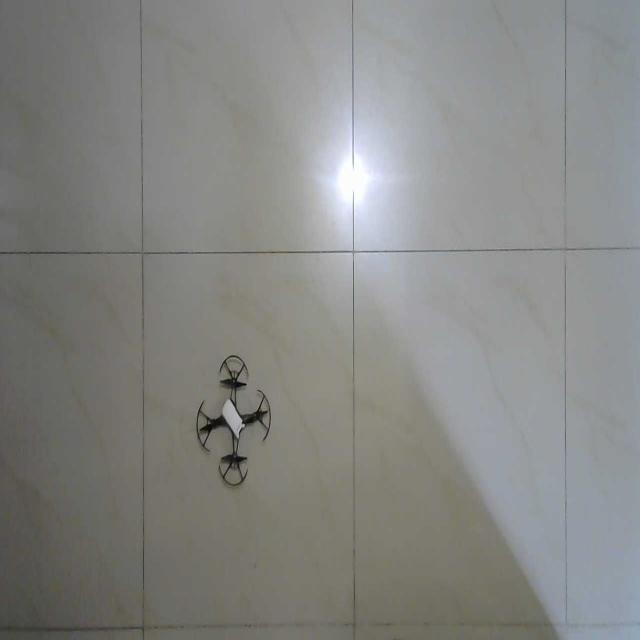drone: (194, 353, 271, 487)
